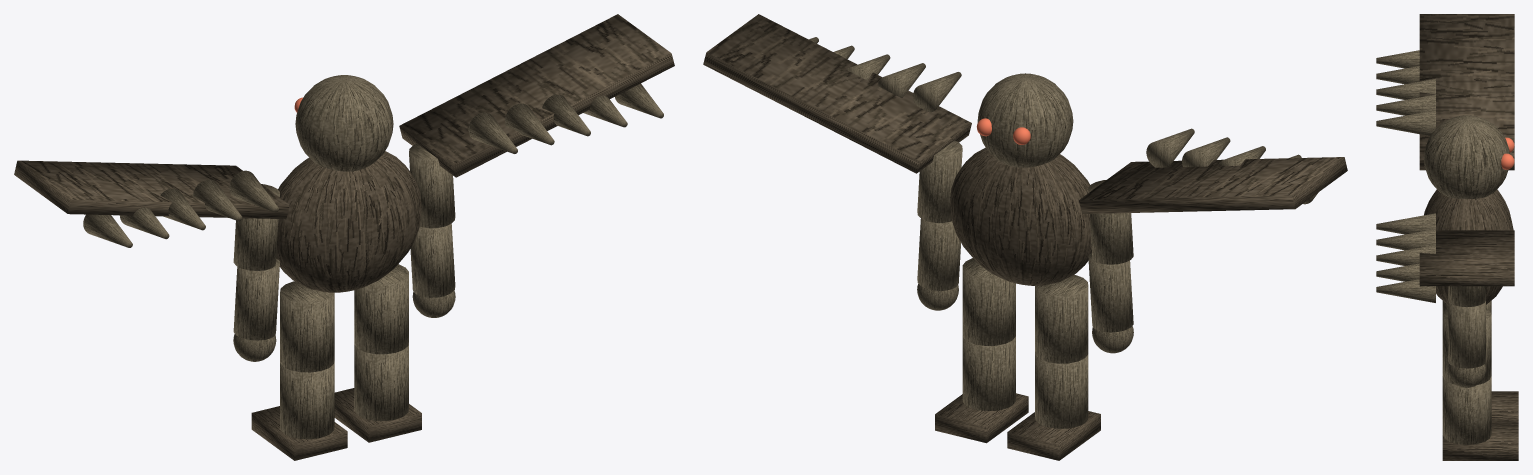
Rendered from gamayun.glb.
The picture shows the model from 3 angles, left to right: view 1: azimuth 30°, elevation 25°; view 2: azimuth 150°, elevation 25°; view 3: azimuth 270°, elevation 25°; orthographic projection. The views are drawn at different scales.
Parts seen in each view (by area): view 1: Torso, Wing.001, Wing, Head, ThighL, ThighR, ShinL, ShinR, ForearmL, ForearmR, UpperArmR, FootL (+14 smaller); view 2: Wing.001, Torso, Wing, Head, ThighL, ThighR, ShinL, ShinR, ForearmL, ForearmR, FootL, FootR (+8 smaller); view 3: Wing, Head, Wing.001, Torso, ShinR, ForearmR, FootR, ThighR, Feather, FootL, Feather.009, Feather.005 (+10 smaller).
Boxes of the visible parts, x1,y1,x2,y2 form: Torso: (276,151,421,292); Wing.001: (399,14,674,177); Wing: (14,160,289,219); Head: (295,75,393,171); ThighL: (280,281,334,372); ThighR: (354,264,408,354); ShinL: (280,361,334,439); ShinR: (354,343,408,420); ForearmL: (233,259,279,340); ForearmR: (410,224,455,297); UpperArmR: (409,144,455,228); FootL: (251,406,347,460); Wing.001: (703,14,971,173); Torso: (950,147,1091,285); Wing: (1079,157,1347,213); Head: (977,73,1073,167); ThighL: (1035,274,1088,363); ThighR: (962,258,1015,345); ShinL: (1035,352,1088,428); ShinR: (962,335,1015,410); ForearmL: (1088,253,1133,332); ForearmR: (917,218,960,290); FootL: (1007,411,1100,460); FootR: (935,393,1028,443); Wing: (1419,14,1514,170); Head: (1423,115,1509,199); Wing.001: (1419,230,1514,286); Torso: (1424,189,1513,304); ShinR: (1442,376,1491,444); ForearmR: (1448,301,1485,368); FootR: (1442,423,1518,460); ThighR: (1442,308,1491,384); Feather: (1376,110,1435,135); FootL: (1491,391,1518,423); Feather.009: (1376,279,1435,302); Feather.005: (1376,213,1435,234).
Bounding box in the file's own units: 1.79 × 1 × 0.4102.
Materials: 5 (4 with a texture image).
